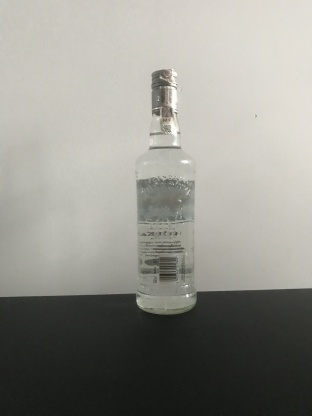nakretka: (149, 67, 179, 117)
